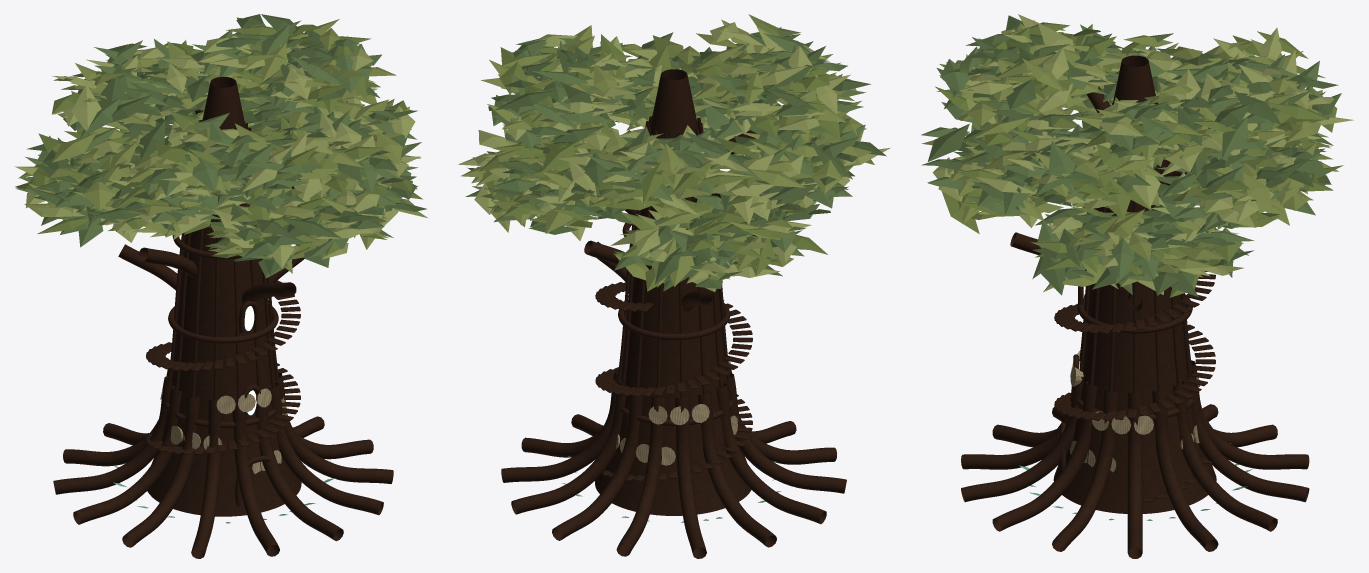
File: deepwood.glb
3 renders of one model, left to right at view 1: azimuth 30°, elevation 25°; view 2: azimuth 150°, elevation 25°; view 3: azimuth 270°, elevation 25°, orthographic. The views are drawn at different scales.
Parts seen in each view (by area): view 1: Heartwood_1600_individual_leaves, deepwood_Heartwood bark.002, Polish_deepwood_architectural_detail; view 2: Heartwood_1600_individual_leaves, deepwood_Heartwood bark.002, Polish_deepwood_architectural_detail; view 3: Heartwood_1600_individual_leaves, deepwood_Heartwood bark.002, Polish_deepwood_architectural_detail.
Boxes of the visible parts, box(x1,y1,x2,y2) form: Heartwood_1600_individual_leaves: box(15, 14, 427, 278); deepwood_Heartwood bark.002: box(53, 76, 393, 558); Polish_deepwood_architectural_detail: box(113, 381, 335, 523); Heartwood_1600_individual_leaves: box(458, 14, 890, 291); deepwood_Heartwood bark.002: box(501, 69, 846, 558); Polish_deepwood_architectural_detail: box(561, 361, 781, 522); Heartwood_1600_individual_leaves: box(921, 14, 1353, 297); deepwood_Heartwood bark.002: box(961, 55, 1309, 558); Polish_deepwood_architectural_detail: box(1019, 350, 1251, 520).
Bounding box in the file's own units: 32.7 × 35.03 × 31.98.
Materials: 4 (2 with a texture image).
